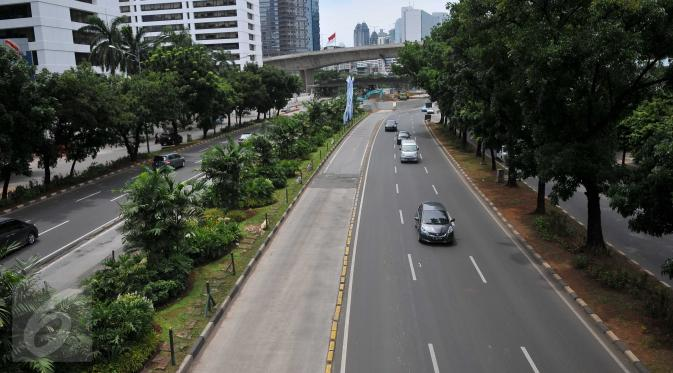car: (415, 202, 457, 245), (1, 215, 40, 258), (155, 152, 184, 175), (400, 140, 419, 165), (384, 119, 399, 134)
